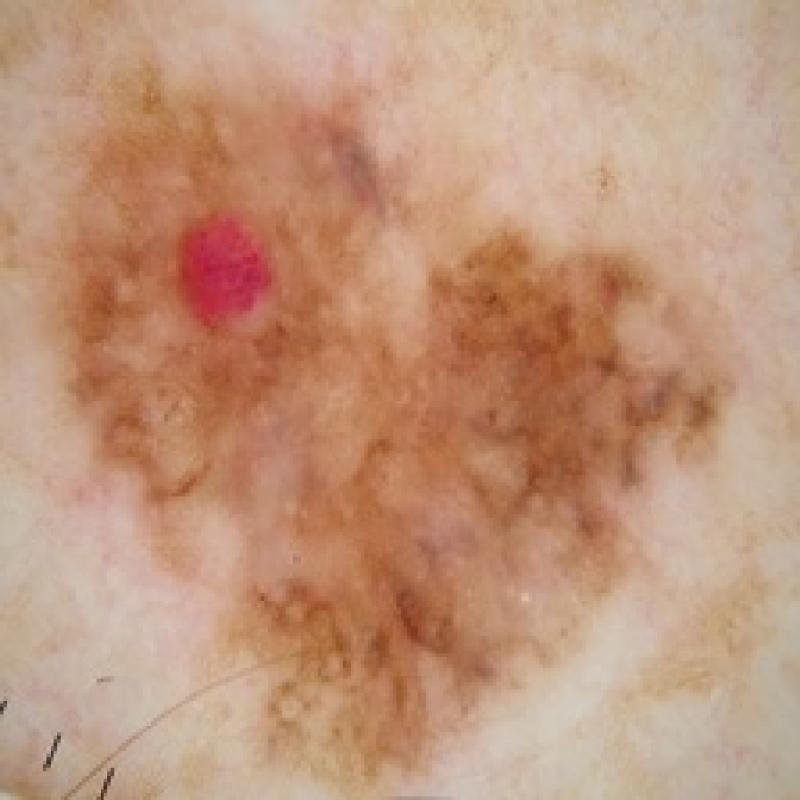malignant: (23, 68, 732, 782), (145, 192, 308, 354)
